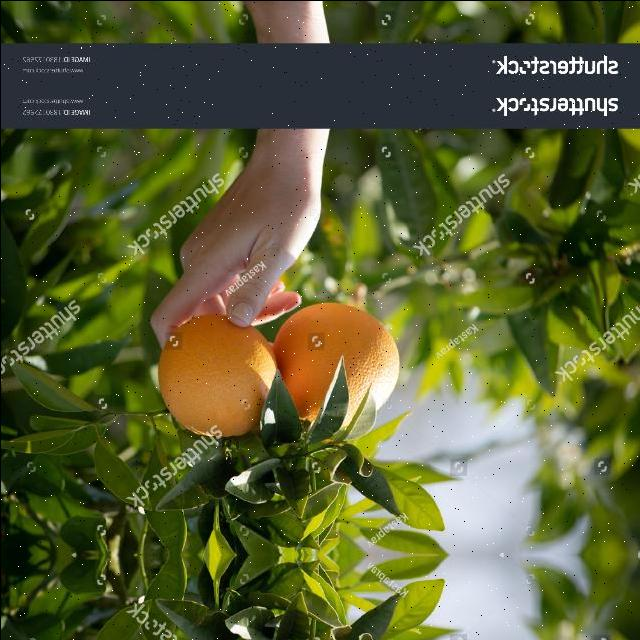Orange: (272, 301, 400, 440), (157, 314, 277, 439)
